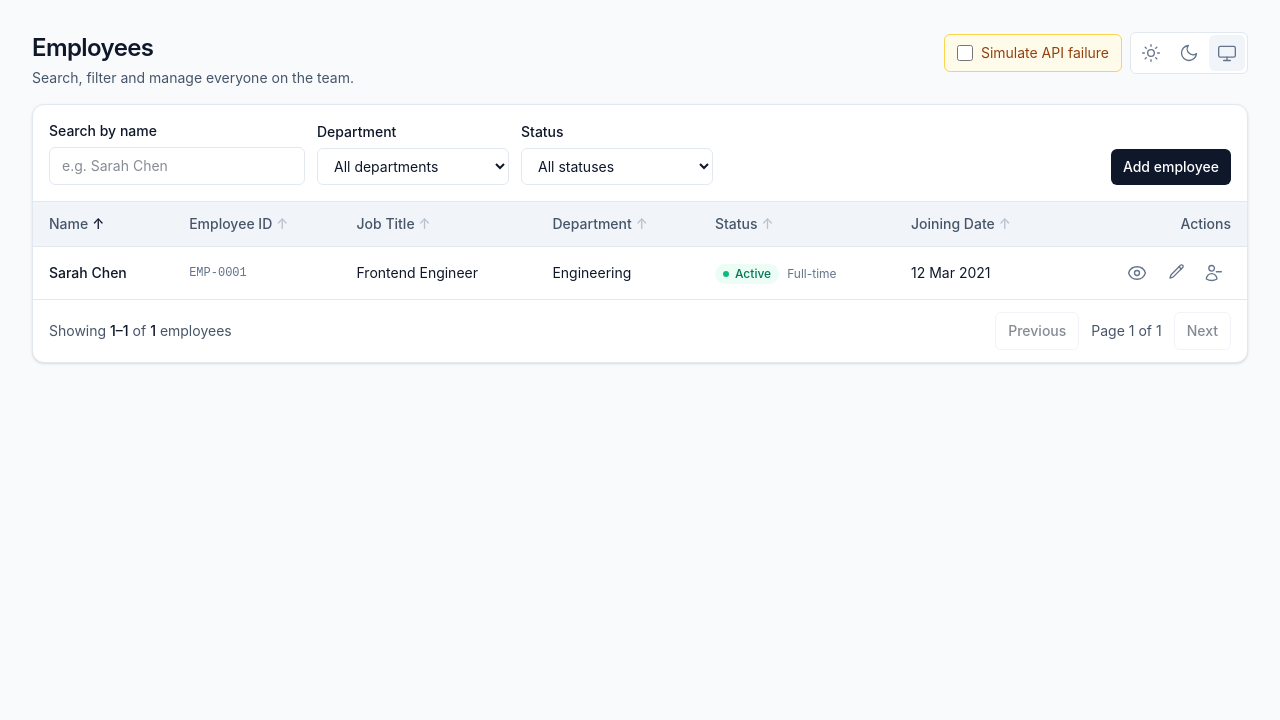
Test: employee form › reuses the same form to edit, pre-filled with the employee
The image size is (1280, 720).
Expected: the table is shown, [33,202,1247,299]
Step 1. Click the button named "Edit Sarah Chen" → [1175, 273], box [1157,255,1193,291]
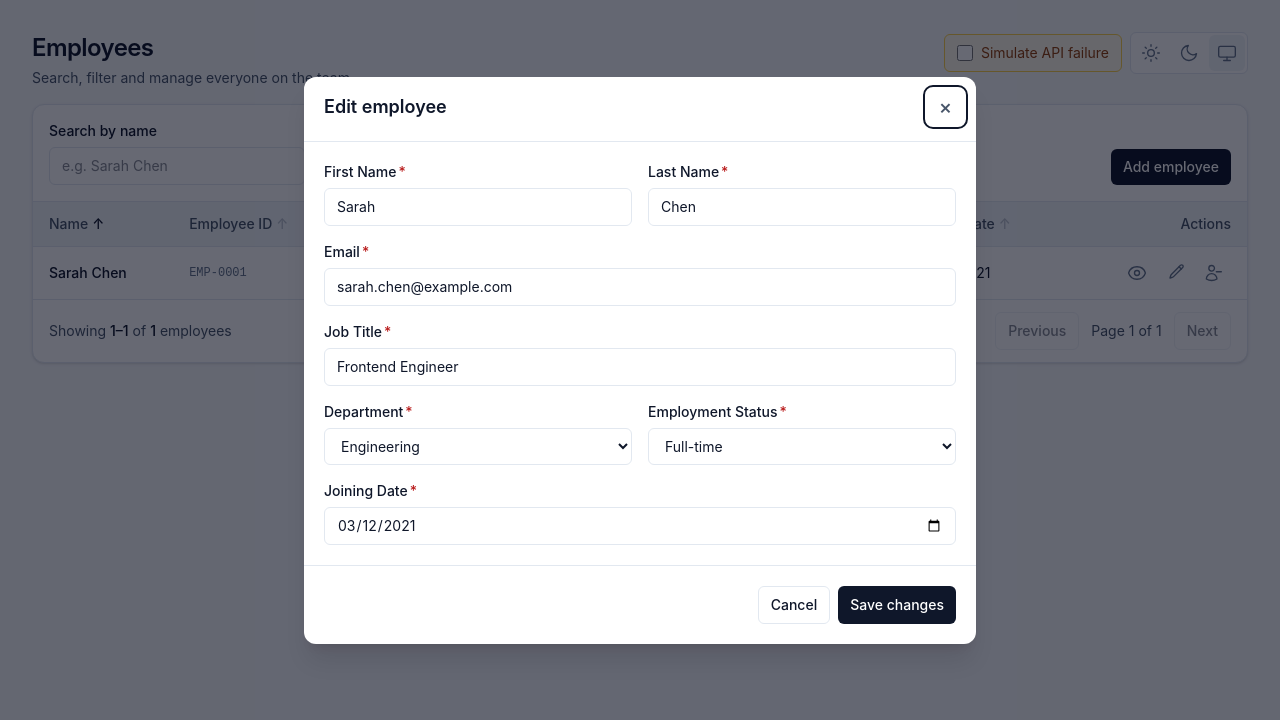
Now the field labelled "First Name*" holds "Sarah", box [324,188,632,226]
Now the field labelled "Job Title*" holds "Frontend Engineer"
Step 2. Replace the text in the field labelled "Job Title*" with "Staff Engineer" → [640, 366], box [324,348,956,386]
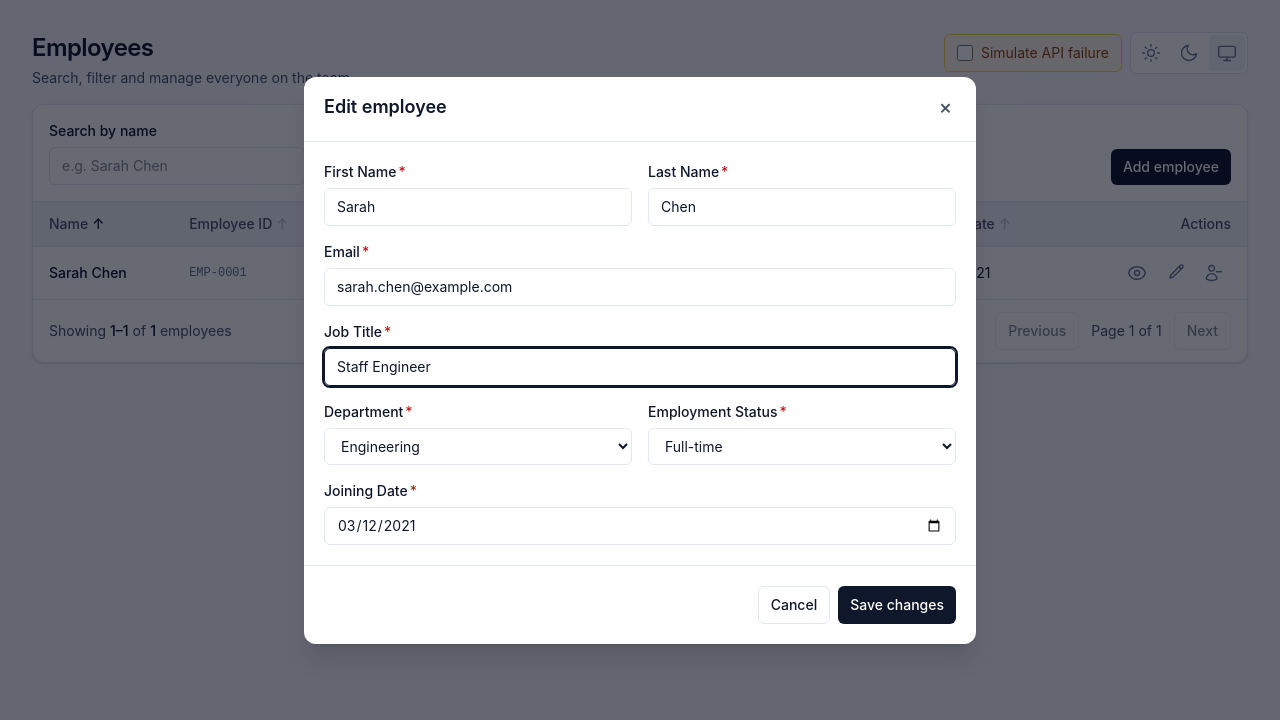
Step 3. Click the button "Save changes" → [897, 604], box [838,586,956,624]
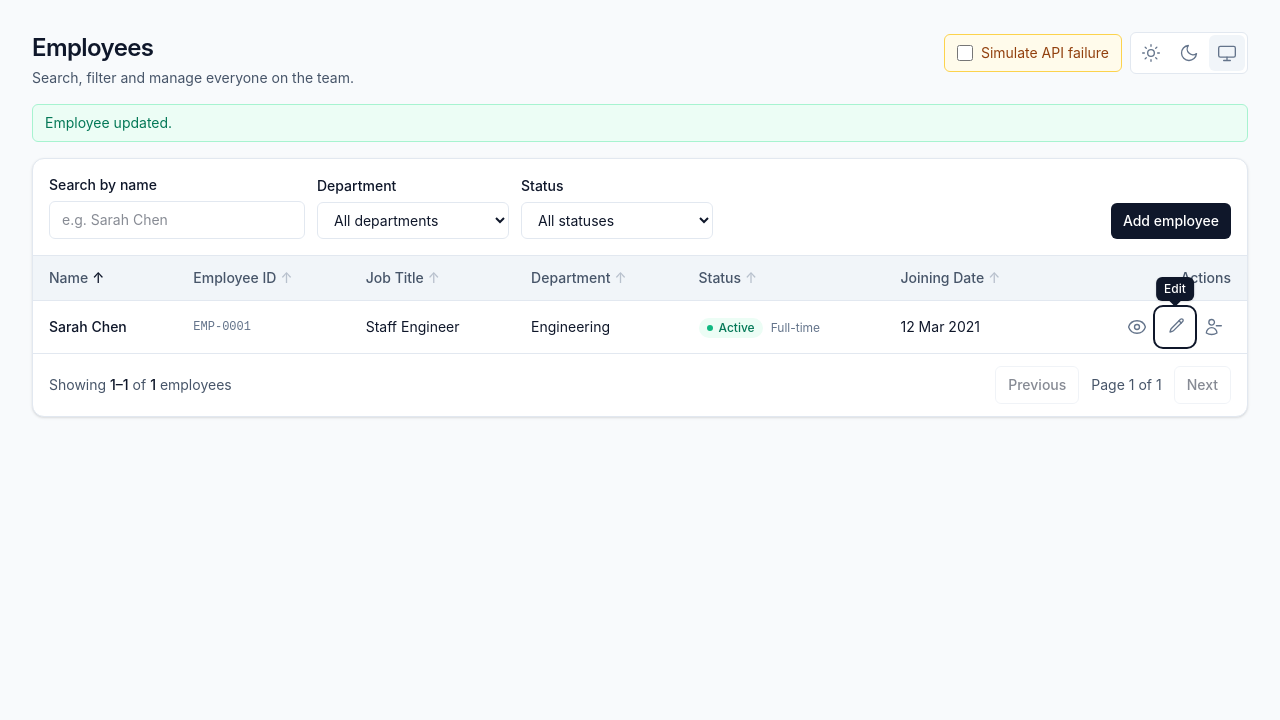
Now the text "Staff Engineer" is shown, box [350,301,515,353]
Now the message reads "Employee updated.", box [45,114,172,131]
